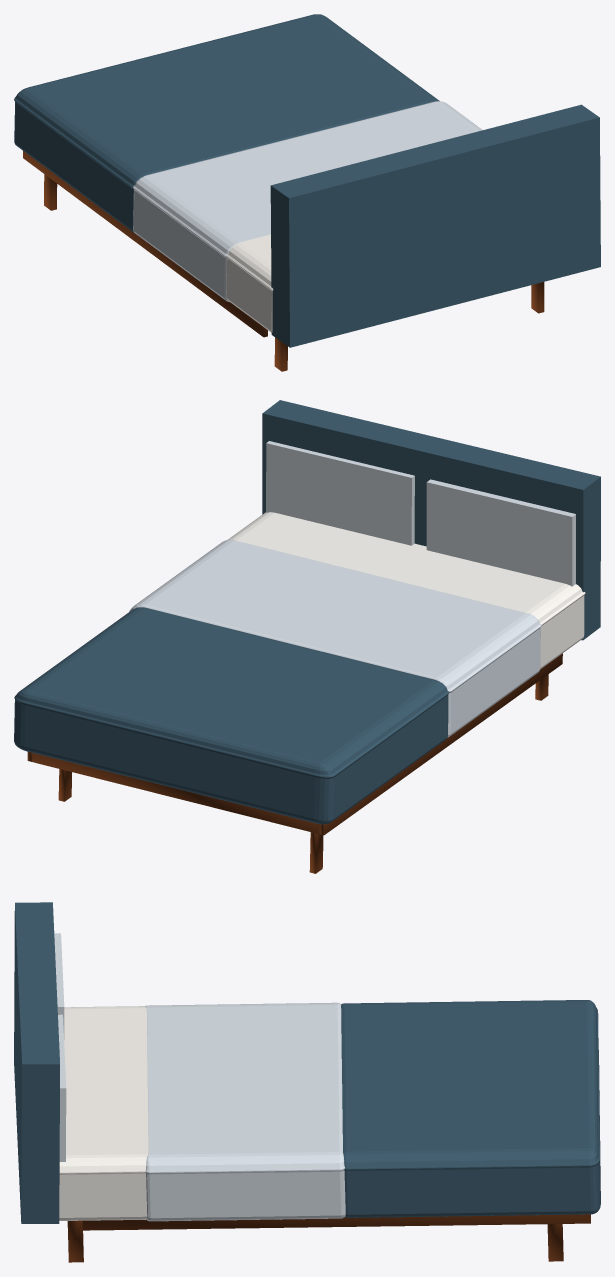
File: cama.obj
The picture shows the model from 3 angles, top to bottom: view 1: azimuth 30°, elevation 25°; view 2: azimuth 150°, elevation 25°; view 3: azimuth 270°, elevation 25°; orthographic projection. The views are drawn at different scales.
Parts seen in each view (by area): view 1: polySurface5; view 2: polySurface5; view 3: polySurface5.
Part boxes in pixels (x1=…): polySurface5: x1=14, y1=14, x2=600, y2=371; polySurface5: x1=14, y1=400, x2=600, y2=873; polySurface5: x1=14, y1=902, x2=600, y2=1262.
Size of the model in its own units: 7.26 by 4.47 by 10.8.
6 materials, 6 textured.
